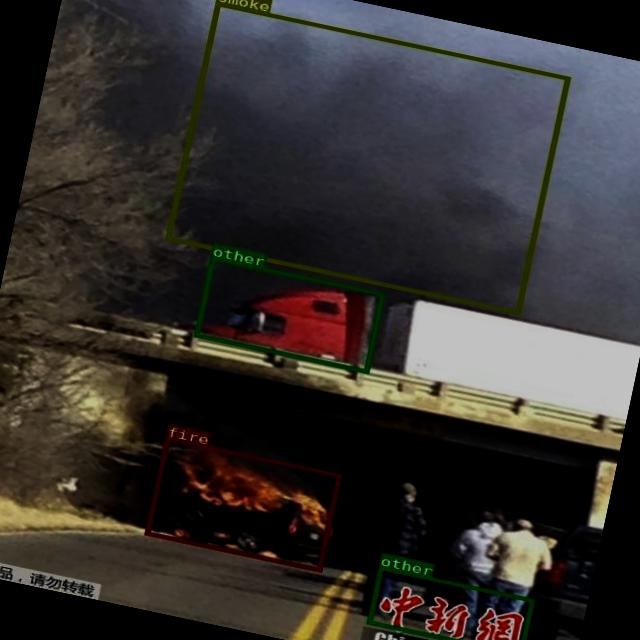fire: (143, 435, 341, 570)
smoke: (164, 0, 568, 314)
